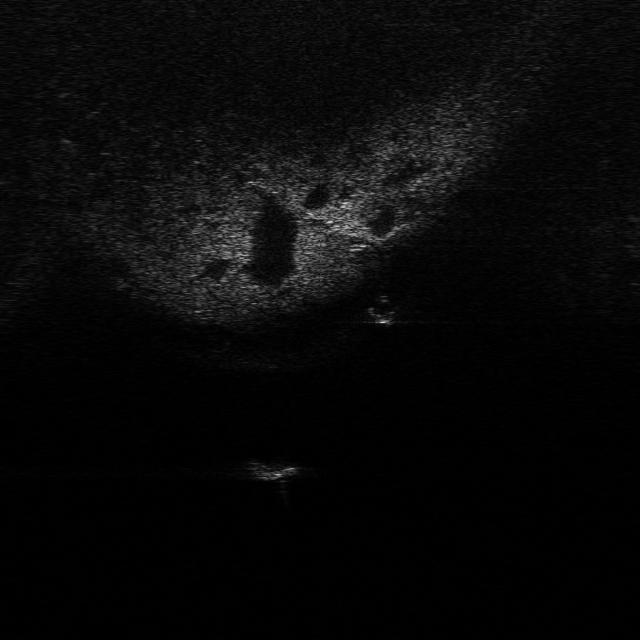ball: (362, 294, 403, 325)
cube: (243, 456, 306, 484)
